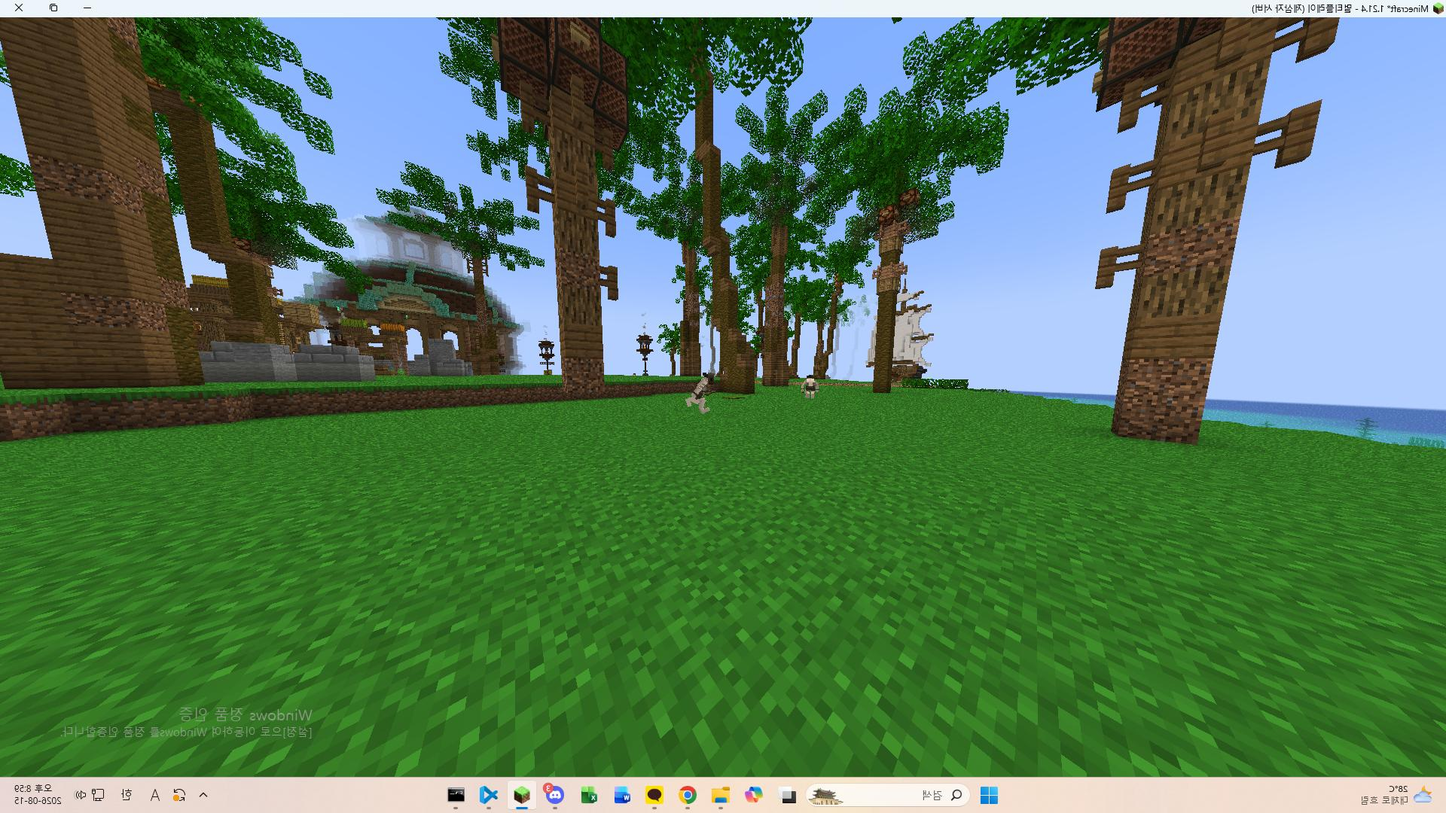bow_indian: (681, 368, 725, 423)
